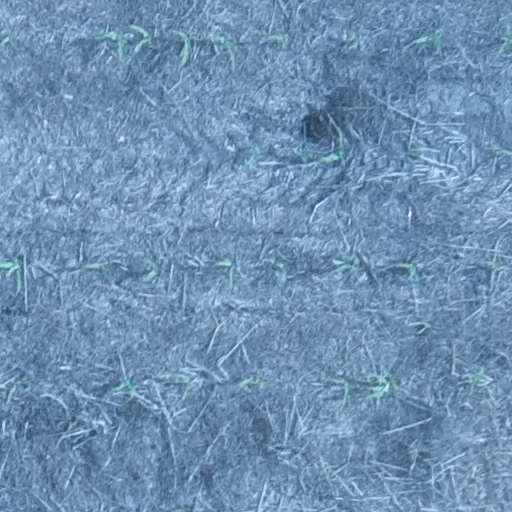planta: (166, 23, 195, 71), (314, 129, 350, 167), (92, 28, 130, 61), (127, 19, 157, 60), (209, 32, 241, 70), (170, 367, 199, 403), (106, 374, 141, 402), (328, 374, 355, 410), (363, 371, 395, 401), (412, 26, 446, 54), (216, 256, 242, 290), (394, 259, 426, 286), (83, 258, 116, 283), (231, 370, 266, 393), (326, 256, 362, 278), (463, 364, 487, 397), (288, 143, 313, 172), (404, 143, 439, 162), (265, 26, 291, 51), (241, 143, 265, 168), (141, 259, 161, 285), (274, 259, 292, 287), (484, 257, 505, 275), (18, 376, 39, 391), (347, 31, 362, 47)
